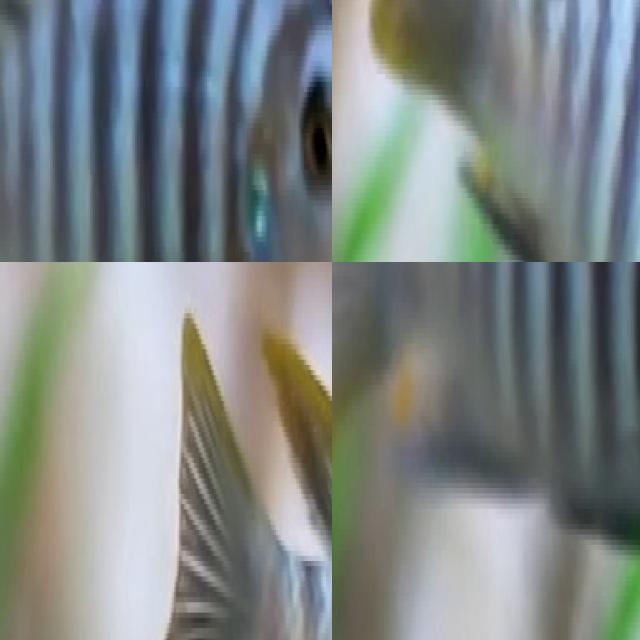fish: (332, 262, 640, 637), (0, 0, 332, 262), (362, 0, 640, 262), (139, 292, 332, 640)
